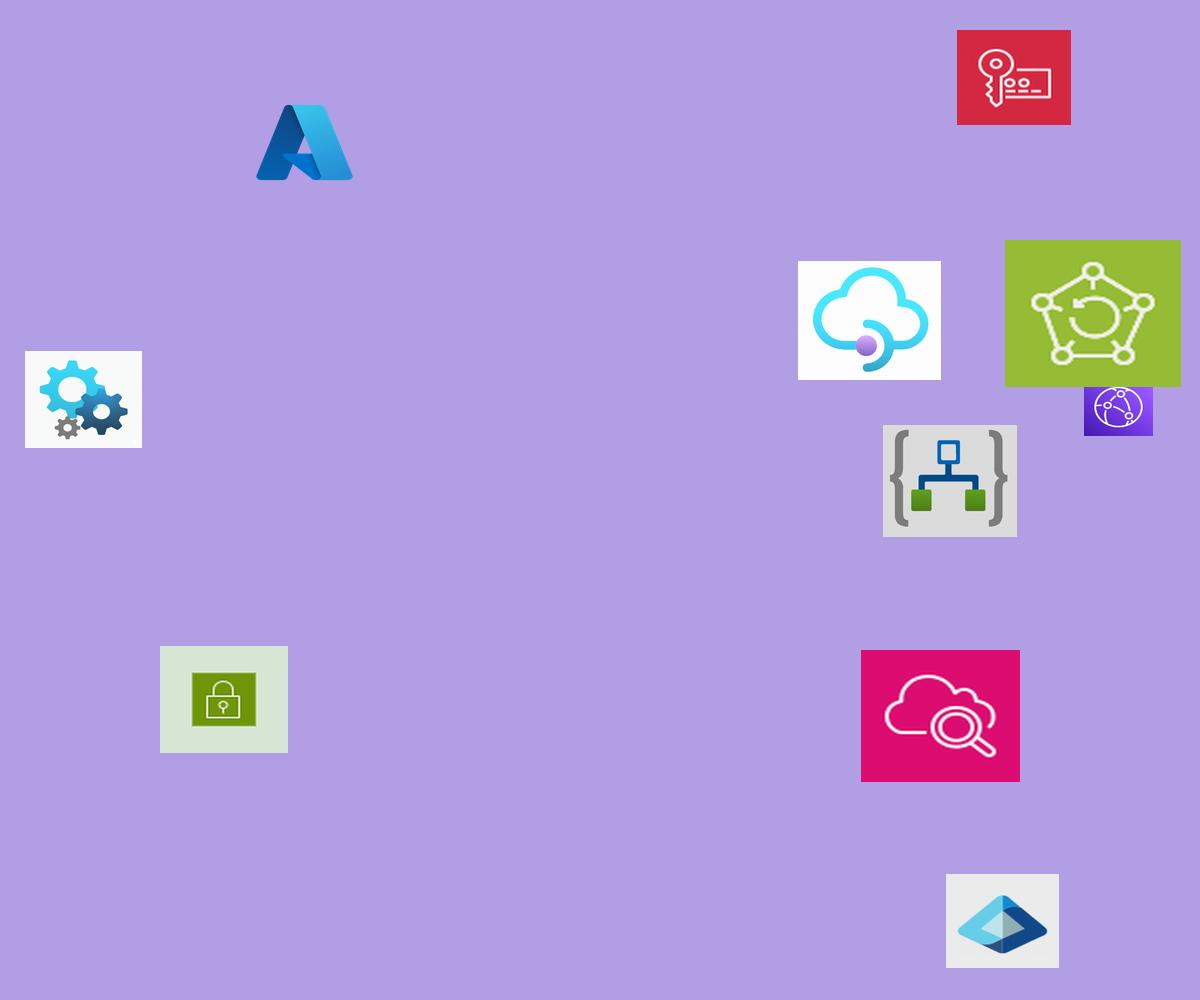AWS-Backup: (1005, 240, 1181, 387)
AWS-CloudFront: (1084, 378, 1153, 436)
AWS-CloudWatch: (861, 650, 1020, 782)
AWS-Key-Management-Service: (957, 30, 1071, 125)
AWS-Public-subnet: (160, 646, 288, 753)
Azure_api: (25, 351, 142, 448)
Azure_api_gateway: (798, 261, 941, 380)
Azure_integration-204-Logic-Apps: (883, 425, 1017, 537)
Azure_microsoft_entra: (946, 874, 1059, 968)
Azure_services: (252, 99, 357, 186)
